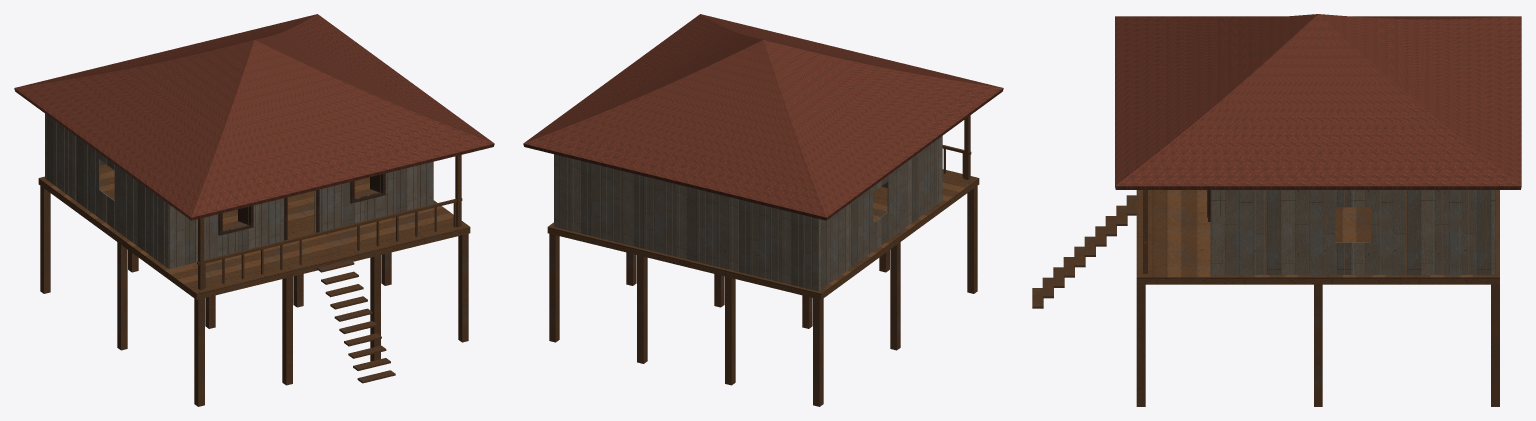
Rendered from rumah_c.glb.
3 views of the same model, side by side, from view 1: azimuth 30°, elevation 25°; view 2: azimuth 150°, elevation 25°; view 3: azimuth 270°, elevation 25° (orthographic). The views are drawn at different scales.
Visible parts, largest first — view 1: rumah_c_genteng_tua, rumah_c_kayu_lapuk, rumah_c_kayu_balok, rumah_c_kayu_papan, rumah_c_kayu_tua; view 2: rumah_c_genteng_tua, rumah_c_kayu_lapuk, rumah_c_kayu_balok, rumah_c_kayu_papan; view 3: rumah_c_genteng_tua, rumah_c_kayu_lapuk, rumah_c_kayu_papan, rumah_c_kayu_balok.
Part boxes in pixels (bbox=[...]): rumah_c_genteng_tua: bbox=[14, 14, 494, 220]; rumah_c_kayu_lapuk: bbox=[45, 113, 433, 268]; rumah_c_kayu_balok: bbox=[40, 155, 468, 406]; rumah_c_kayu_papan: bbox=[38, 164, 470, 299]; rumah_c_kayu_tua: bbox=[218, 173, 385, 240]; rumah_c_genteng_tua: bbox=[523, 14, 1003, 220]; rumah_c_kayu_lapuk: bbox=[554, 136, 942, 291]; rumah_c_kayu_balok: bbox=[549, 115, 977, 406]; rumah_c_kayu_papan: bbox=[547, 169, 979, 299]; rumah_c_genteng_tua: bbox=[1115, 14, 1521, 189]; rumah_c_kayu_lapuk: bbox=[1210, 190, 1496, 274]; rumah_c_kayu_papan: bbox=[1136, 190, 1499, 284]; rumah_c_kayu_balok: bbox=[1032, 190, 1499, 406].
Size of the model in its own units: 9.2 by 8 by 11.19.
Materials: 6 (5 with a texture image).
